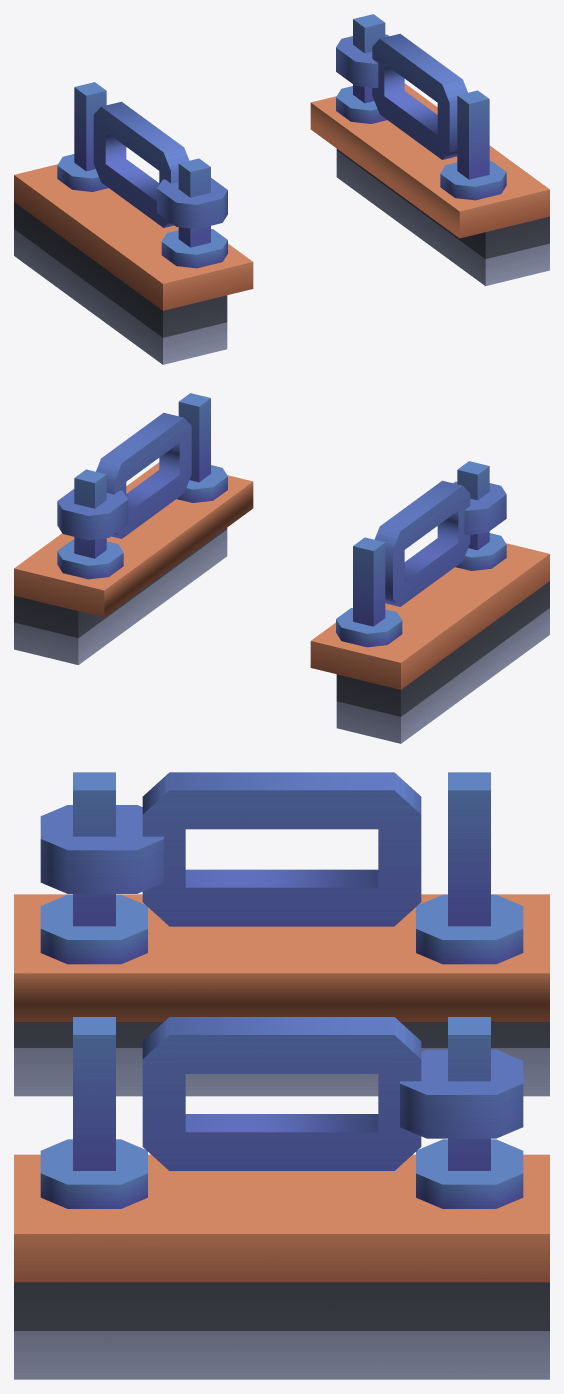
File: station-gate.glb
The picture shows the model from 3 angles, top to bottom: view 1: azimuth 30°, elevation 25°; view 2: azimuth 150°, elevation 25°; view 3: azimuth 270°, elevation 25°; orthographic projection. The views are drawn at different scales.
Visible parts, largest first — view 1: station-gate (×2), Group (×4); view 2: station-gate (×2), Group (×4); view 3: station-gate (×2), Group (×4).
Part boxes in pixels (x1,y1,x2,y2): station-gate (×2): [14, 14, 549, 364]; Group (×4): [57, 86, 506, 268]; station-gate (×2): [14, 393, 549, 743]; Group (×4): [57, 465, 506, 647]; station-gate (×2): [14, 772, 549, 1379]; Group (×4): [40, 894, 523, 1208].
Bounding box in the file's own units: 1.5 × 0.63 × 1.
Materials: 1 (1 with a texture image).
